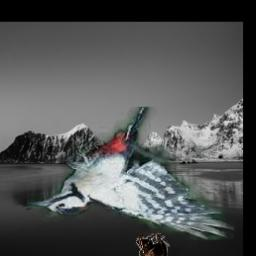Crow: (136, 234, 171, 256)
Woodpecker: (28, 108, 235, 241)
